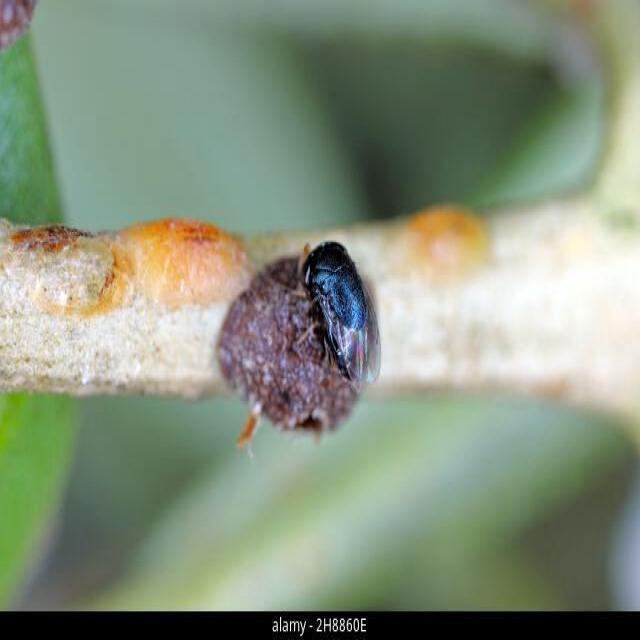BlackScale: (216, 242, 379, 445)
